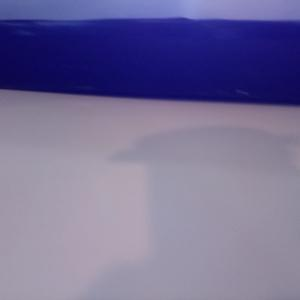zone: (1, 18, 299, 106)
